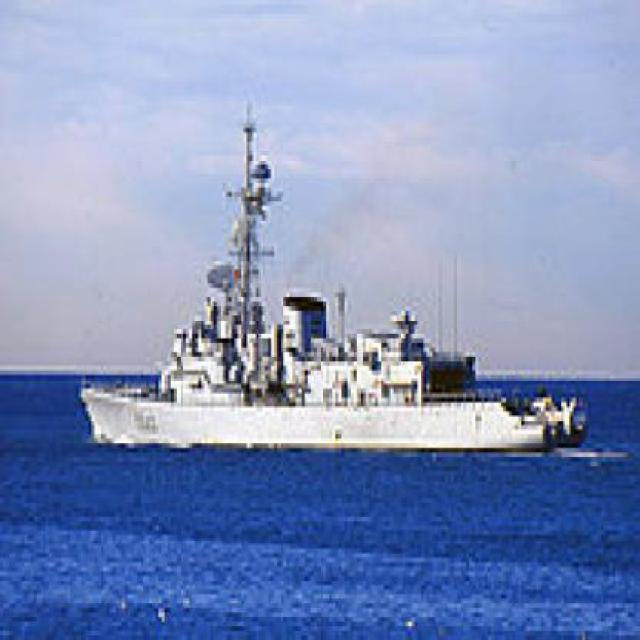warship2: (71, 142, 589, 458)
